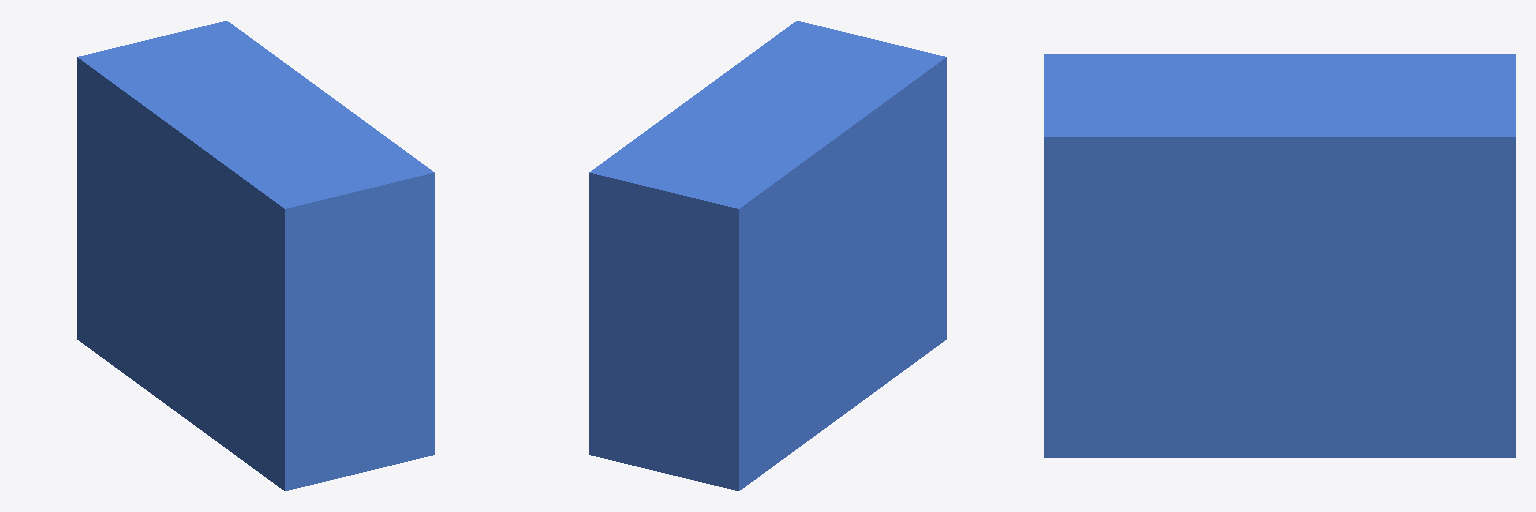
robot.urdf — fr3_hand_robot:
<?xml version="0.0" ?>
<robot name="fr3_hand_robot">
  <link name="base_link">
    <inertial>
      <origin rpy="0 0 0" xyz="0 0 0"/>
       <mass value=".1"/>
       <inertia ixx="1" ixy="0" ixz="0" iyy="1" iyz="0" izz="1"/>
    </inertial>
    
    <visual>
      <origin rpy="0 0 0" xyz="0 0 0.00"/>
      <geometry>
        <box size="0.10 0.24 0.18"/>
      </geometry>
      <material name="cornflowerblue">
        <color rgba="0.3921 0.5843 0.9294 0.8"/>
      </material>
    </visual>
  </link>
</robot>

--- Facts derived from the render (not from the file) ---
3 views of the same robot in one strip: view 1: azimuth 30°, elevation 25°; view 2: azimuth 150°, elevation 25°; view 3: azimuth 270°, elevation 25° (orthographic).
Robot: fr3_hand_robot — 1 links, 0 joints (none); root link base_link; default pose: all joints at 0.
Links seen in each view (by area): view 1: base_link; view 2: base_link; view 3: base_link.
Link boxes in pixels (x1=…): base_link: x1=77, y1=21, x2=434, y2=490; base_link: x1=589, y1=21, x2=946, y2=490; base_link: x1=1044, y1=54, x2=1515, y2=457.
Size in the robot's own frame: 0.1 by 0.24 by 0.18 metres.
Geometry: primitives only (box / cylinder / sphere), no mesh files.